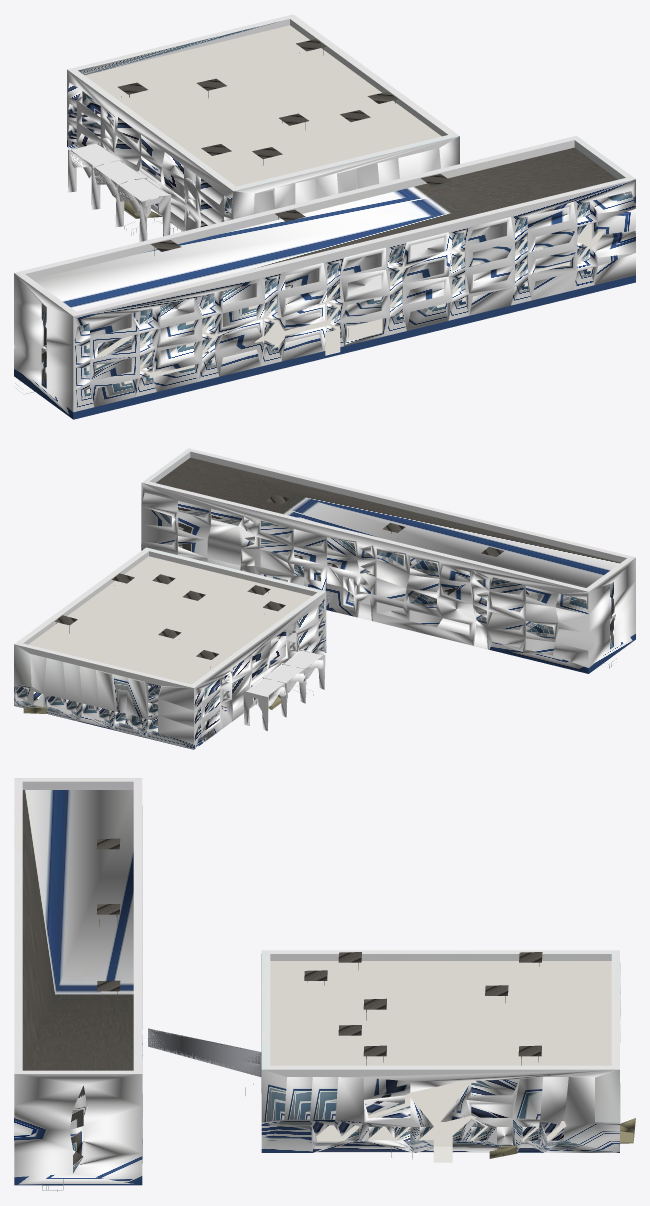
File: school.access-v6.lod1.glb
3 renders of one model, top to bottom at view 1: azimuth 30°, elevation 25°; view 2: azimuth 150°, elevation 25°; view 3: azimuth 270°, elevation 25°, orthographic. The views are drawn at different scales.
Parts seen in each view (by area): view 1: Object_4, Object_3, Object_7, Object_10, Object_9; view 2: Object_4, Object_7, Object_3, Object_10, Object_9; view 3: Object_4, Object_3, Object_7, Object_9.
Boxes of the visible parts, bbox=[...] form: Object_4: bbox=[14, 135, 635, 419]; Object_3: bbox=[85, 25, 603, 393]; Object_7: bbox=[67, 14, 459, 231]; Object_10: bbox=[68, 142, 171, 242]; Object_9: bbox=[118, 39, 451, 255]; Object_4: bbox=[141, 448, 635, 673]; Object_7: bbox=[14, 547, 326, 749]; Object_3: bbox=[23, 556, 334, 713]; Object_10: bbox=[243, 649, 325, 731]; Object_9: bbox=[55, 494, 503, 667]; Object_4: bbox=[14, 778, 142, 1185]; Object_3: bbox=[148, 961, 635, 1162]; Object_7: bbox=[261, 950, 620, 1152]; Object_9: bbox=[96, 838, 542, 1065].
Bounding box in the file's own units: 61.91 × 10.99 × 52.63.
6 materials, 4 textured.
